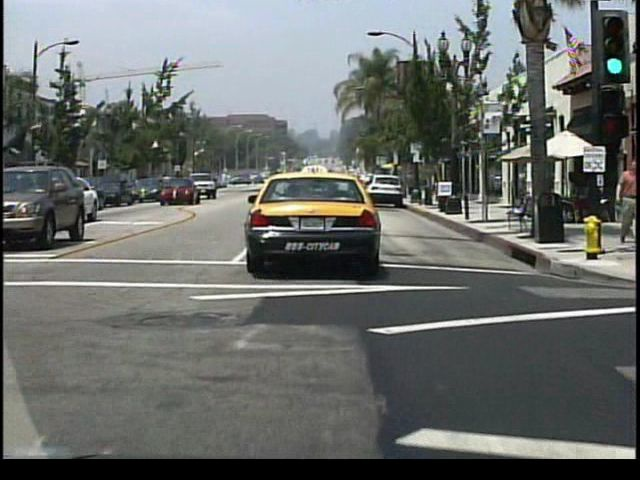person: (610, 160, 639, 241)
